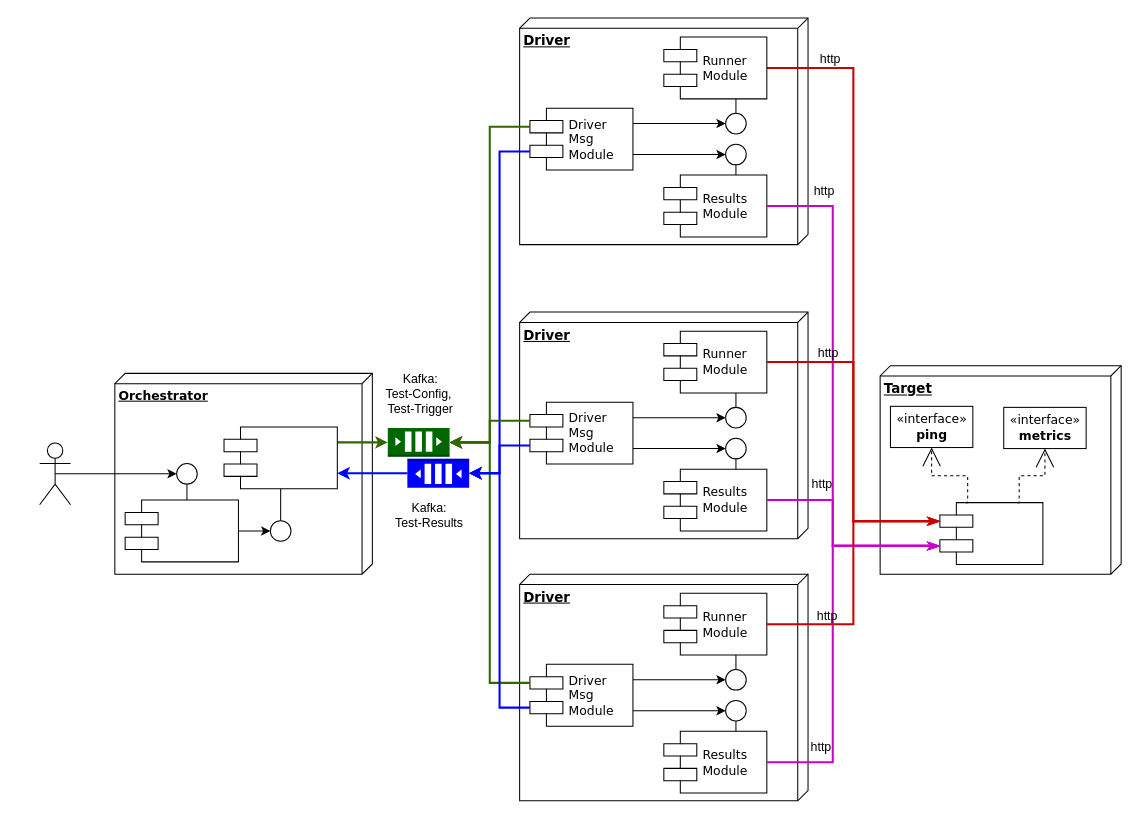
Some shapes in this 1139 by 819 pixel diagram are drawn without their labels. Here are the shapes that lost their labels. From the top down, the centre of each, then its label:
(55,473): Test Engineer
(280,457): Orch Msg Module
(181,530): UI module
(991,533): Target Server Module
